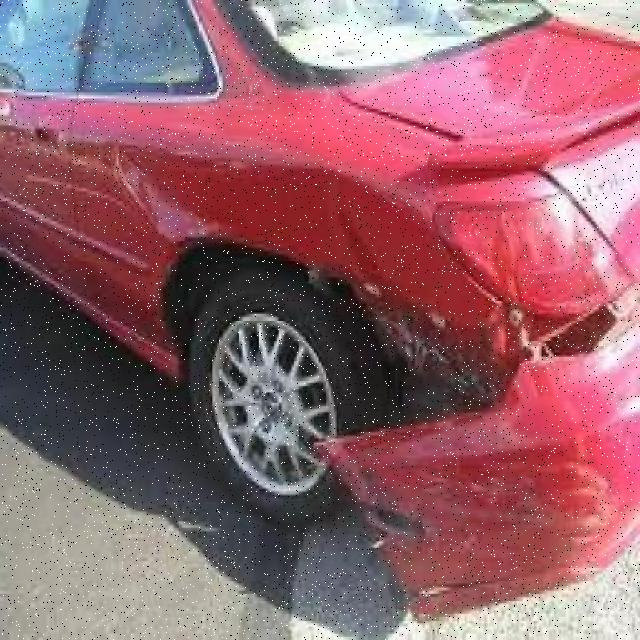damage: (117, 144, 640, 623)
